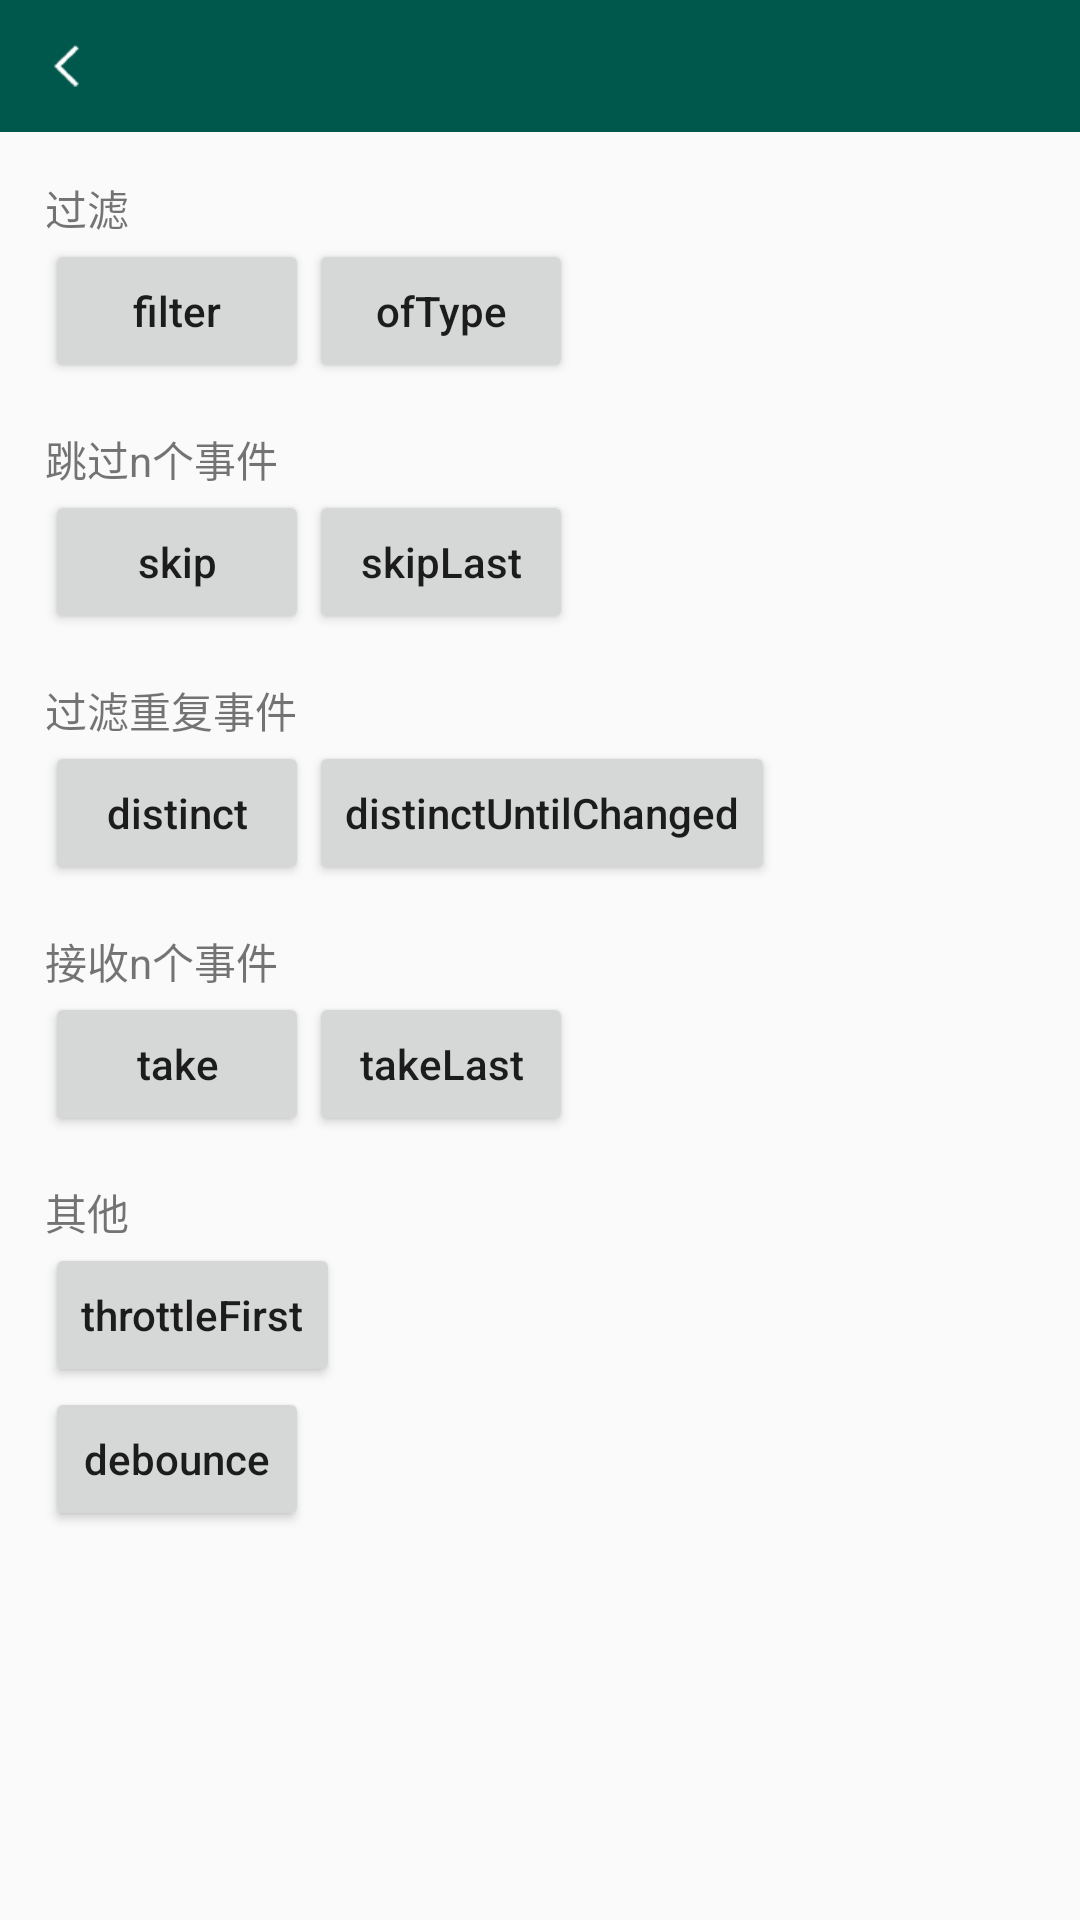

Screen size 1080w x 1920h. Icon name, then its center in pixels as (x=x, y=y):
back: (x=66, y=66)
